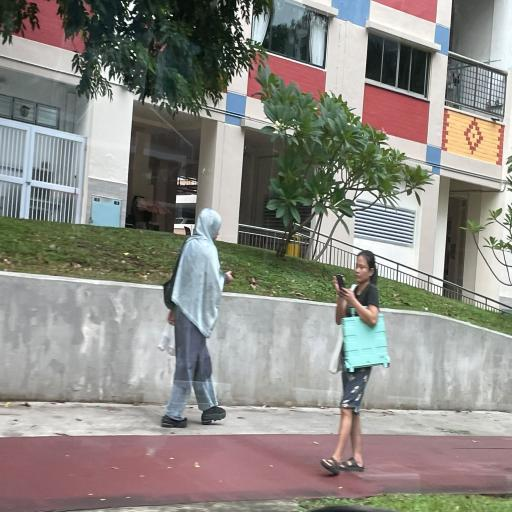person_left: (328, 242, 394, 478)
person_right: (161, 199, 231, 429)
